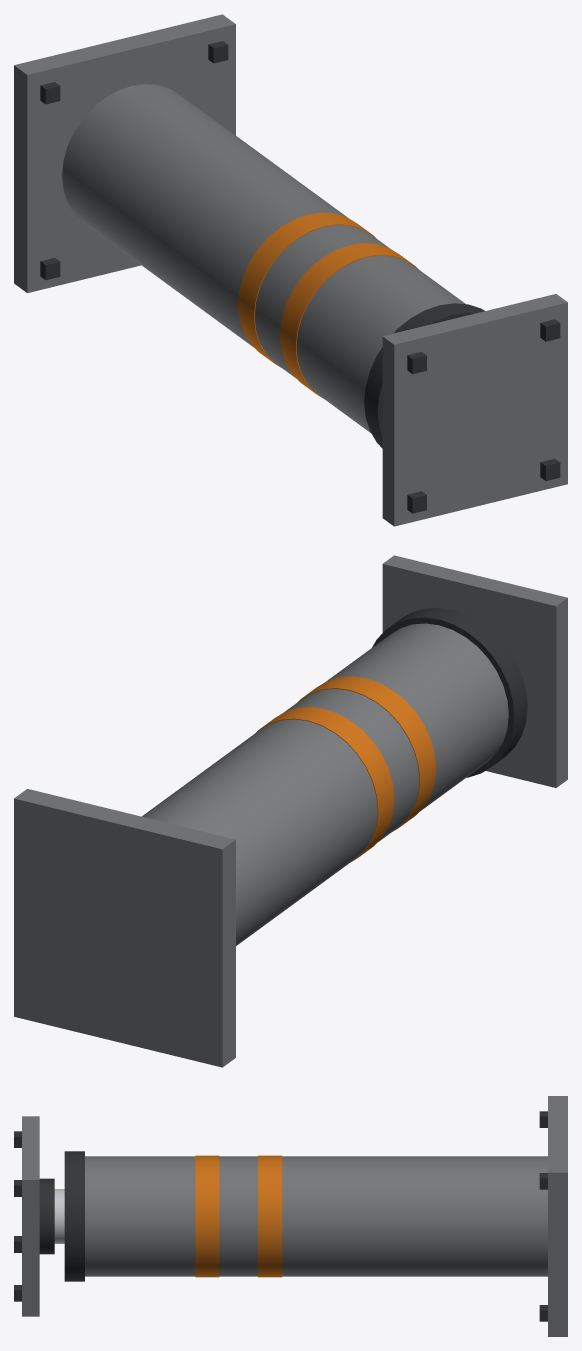
File: RoboticsHydraulicCylinder.obj
3 views of the same model, one above another, from view 1: azimuth 30°, elevation 25°; view 2: azimuth 150°, elevation 25°; view 3: azimuth 270°, elevation 25° (orthographic). The views are drawn at different scales.
Visible parts, largest first — view 1: Base, Tip; view 2: Base, Tip; view 3: Base, Tip, Rod.
Boxes of the visible parts, x1,y1,x2,y2 form: Base: [14, 14, 484, 448]; Tip: [382, 294, 567, 526]; Base: [14, 607, 527, 1067]; Tip: [382, 555, 567, 787]; Base: [64, 1096, 567, 1336]; Tip: [14, 1116, 54, 1316]; Rod: [54, 1189, 64, 1243].
Bounding box in the file's own units: 0.36 × 0.36 × 1.1.
